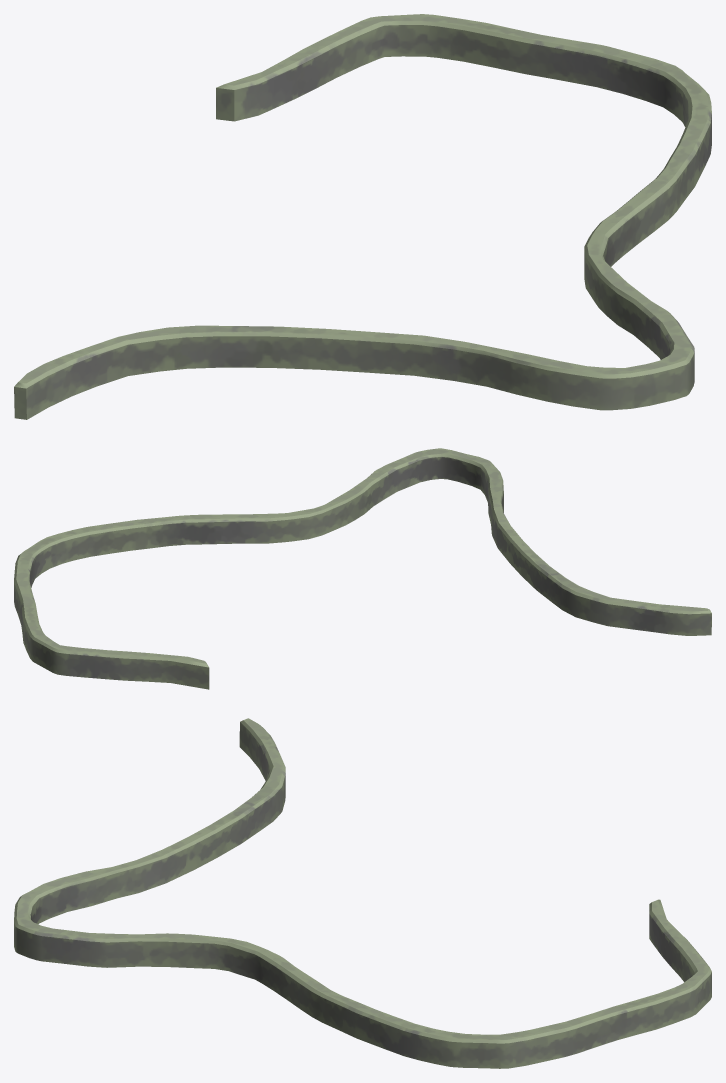
Rendered from ZONE1SMALL1Ufbx.fbx.
3 views of the same model, one above another, from view 1: azimuth 30°, elevation 25°; view 2: azimuth 150°, elevation 25°; view 3: azimuth 270°, elevation 25° (orthographic). The views are drawn at different scales.
Visible parts, largest first — view 1: Wall low poly; view 2: Wall low poly; view 3: Wall low poly.
Boxes of the visible parts, x1,y1,x2,y2 form: Wall low poly: [14, 14, 711, 419]; Wall low poly: [14, 448, 711, 689]; Wall low poly: [14, 718, 711, 1068].
Bounding box in the file's own units: 2498 × 108 × 2275.
Materials: 1 (1 with a texture image).
